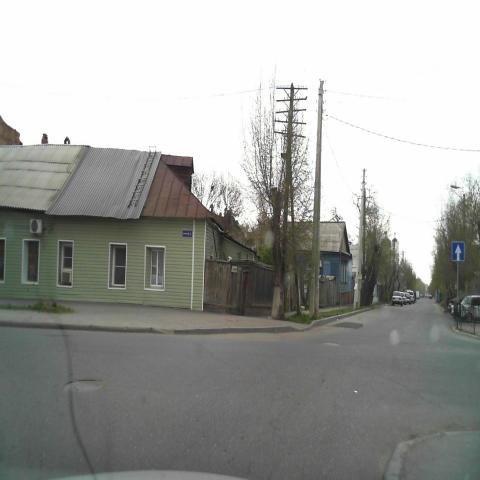5_5: (452, 241, 464, 262)
